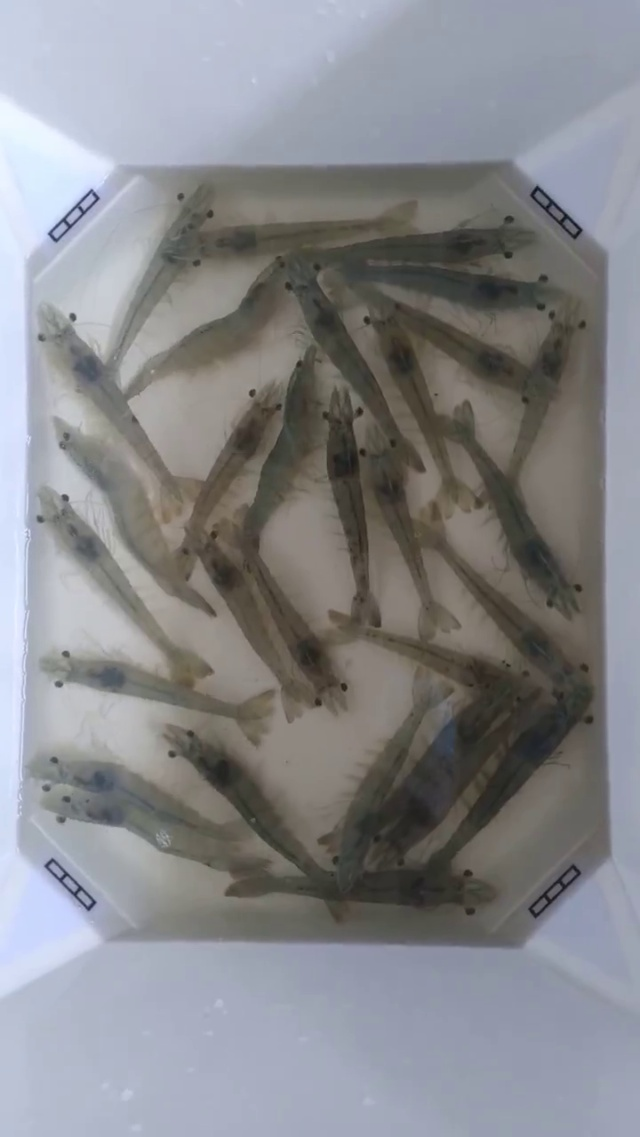shrimp: (525, 161, 639, 488), (544, 428, 639, 748), (306, 299, 424, 479), (10, 557, 118, 749), (67, 330, 179, 506), (575, 515, 639, 816), (381, 634, 515, 761), (175, 171, 281, 331), (25, 193, 104, 389), (180, 483, 266, 658), (38, 486, 144, 622), (18, 657, 103, 820), (432, 401, 521, 552), (107, 654, 235, 758), (422, 773, 506, 930), (317, 236, 424, 353), (499, 220, 585, 334), (281, 610, 362, 721), (308, 783, 371, 924), (209, 381, 283, 477), (222, 220, 354, 267)
